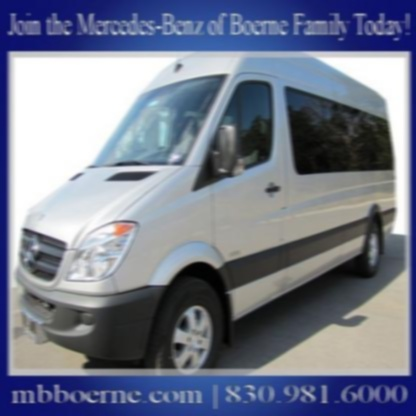Vehicle: (14, 52, 401, 376)
